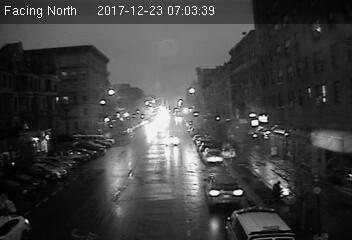car: (202, 171, 243, 205), (200, 146, 226, 165)
police: (225, 208, 293, 240)
